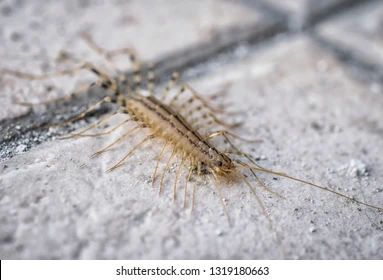centipede: (24, 31, 365, 230)
